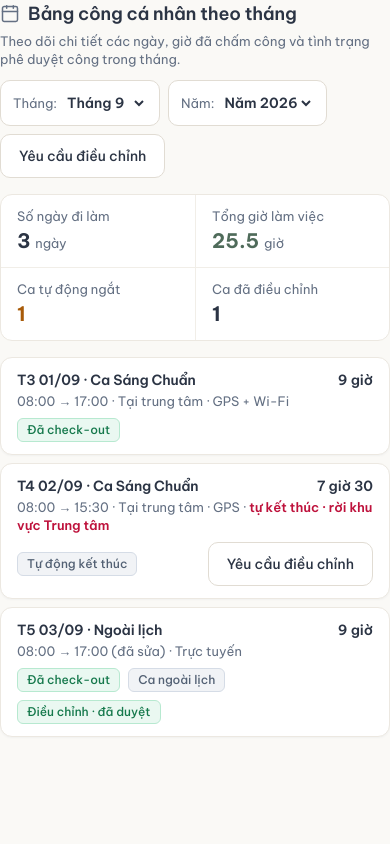
Scenario: MyMonthlyTimesheetPanel mobile cards (design 14c) › does not mark the opening card as sent when its sheet was moved to another shift
Click the button with aria-label "Yêu cầu điều chỉnh ca T4 02/09": point(290, 564) [208,542,373,586]
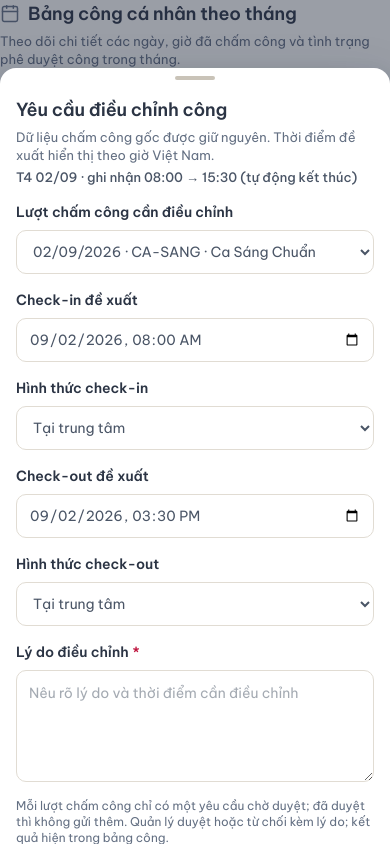
Select "01/09/2026 · CA-SANG · Ca Sáng Chuẩn" in the dropdown labelled "Lượt chấm công cần điều chỉnh": point(195, 252) [16,230,374,274]
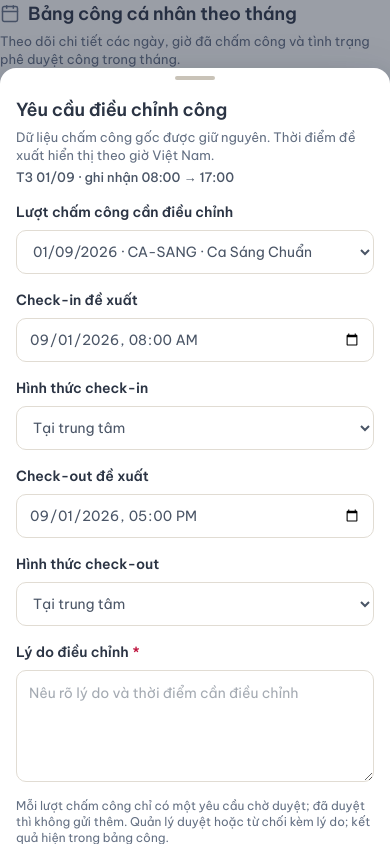
In the text box labelled "Lý do điều chỉnh*": point(195, 726) [16,670,374,782], type "Sửa ca hôm trước"
(page scrolled)
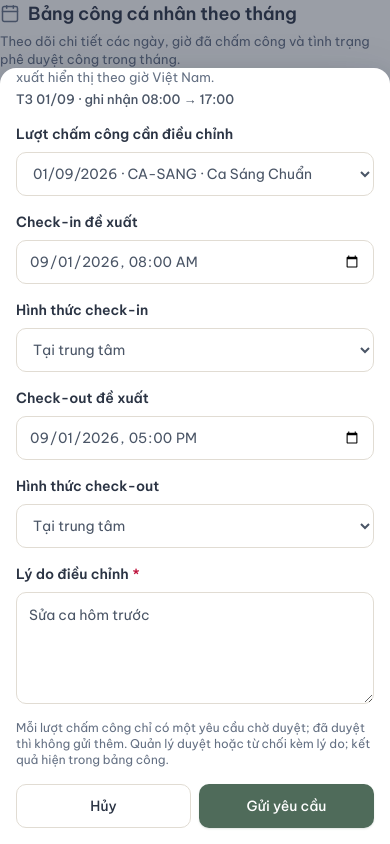
Click the button "Gửi yêu cầu": point(286, 806) [199,784,374,828]
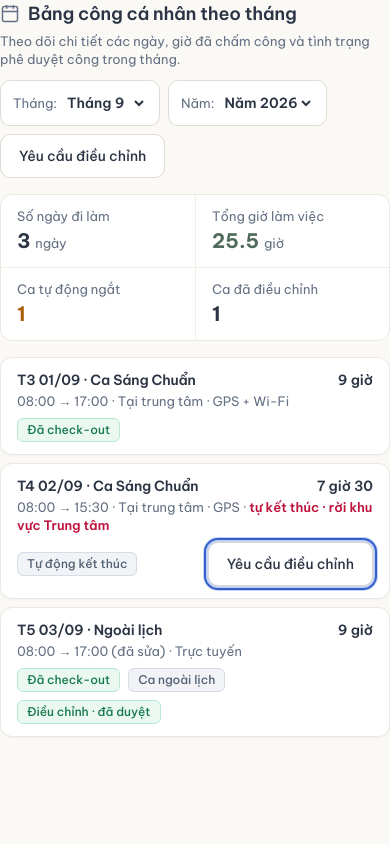
Expected: the button with aria-label "Yêu cầu điều chỉnh ca T4 02/09" is shown, [208,542,373,586]
Expected: the dialog is gone
